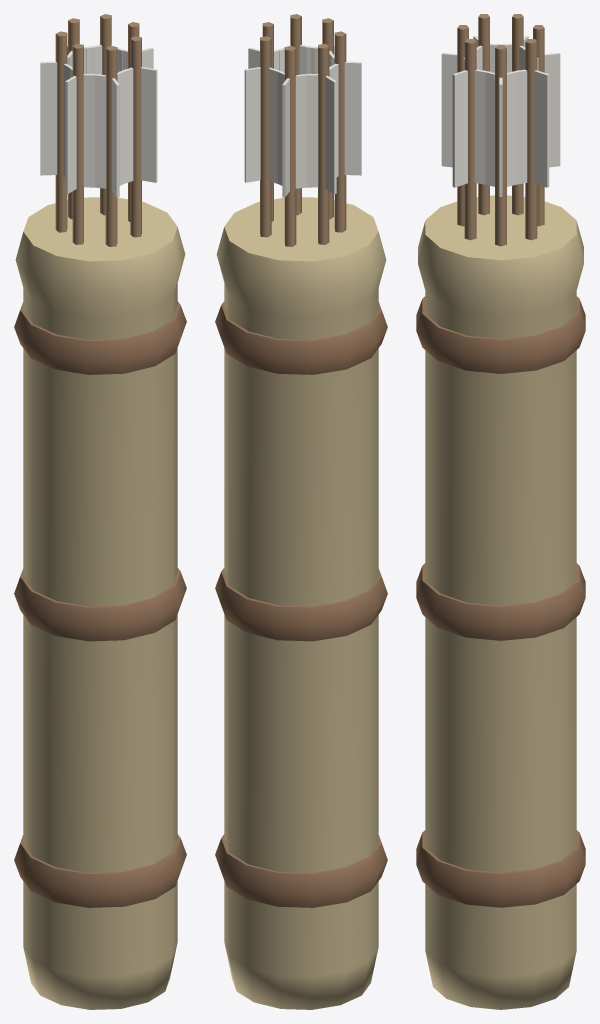
File: quiver.glb
The picture shows the model from 3 angles, left to right: view 1: azimuth 30°, elevation 25°; view 2: azimuth 150°, elevation 25°; view 3: azimuth 270°, elevation 25°; orthographic projection.
Visible parts, largest first — view 1: W-quiver; view 2: W-quiver; view 3: W-quiver.
Boxes of the visible parts, x1,y1,x2,y2 form: W-quiver: (14,14,186,1009); W-quiver: (215,14,387,1009); W-quiver: (416,14,585,1009).
Size of the model in its own units: 0.112 by 0.68 by 0.1092.
